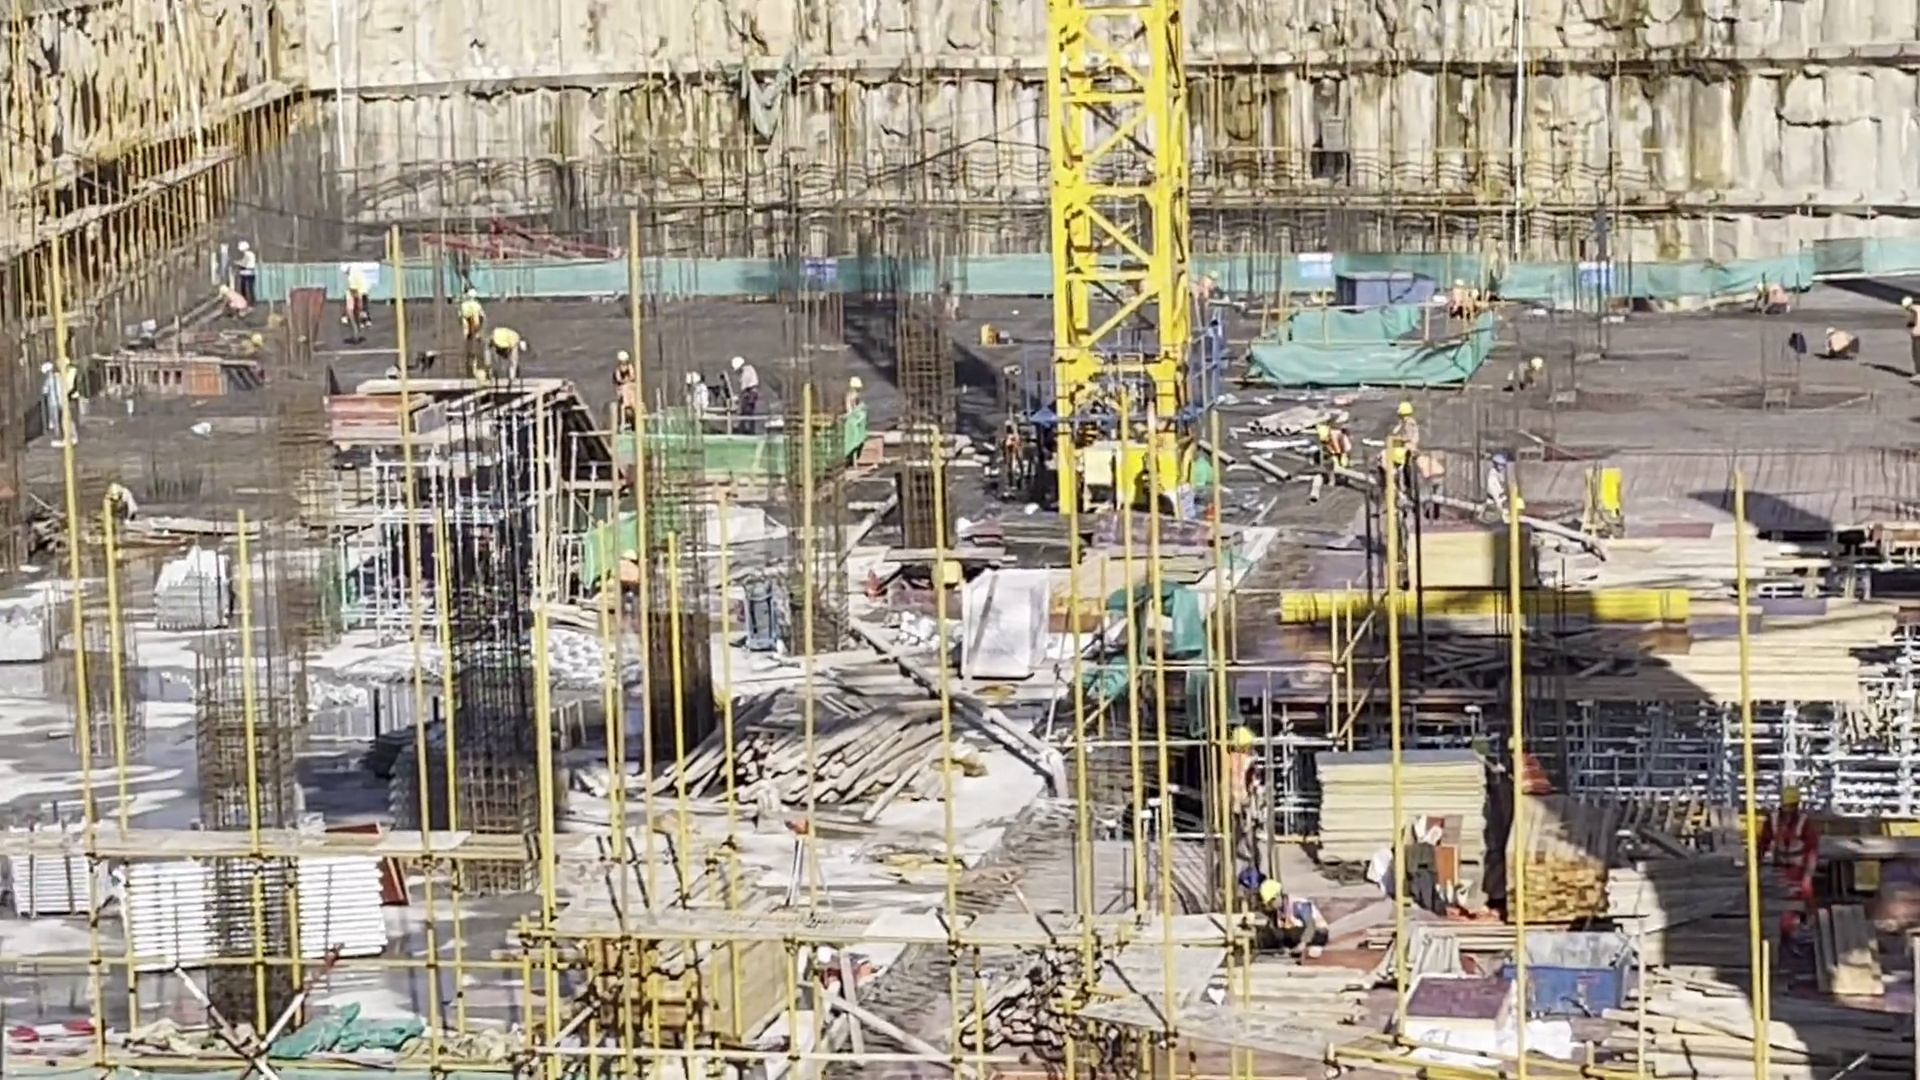board: (1318, 757, 1488, 864), (1403, 506, 1528, 584)
cutter: (878, 534, 1004, 594)
ebox: (1568, 457, 1631, 557), (1128, 422, 1201, 496)
helmet: (1231, 731, 1271, 763), (1777, 785, 1809, 805), (1506, 735, 1534, 755), (490, 326, 516, 346), (1531, 353, 1550, 378), (1494, 448, 1515, 470), (1453, 286, 1477, 303), (1003, 413, 1023, 432), (111, 481, 131, 499), (1261, 885, 1288, 897), (337, 259, 361, 272), (1902, 291, 1915, 311), (1320, 426, 1337, 441), (1211, 267, 1221, 289), (850, 377, 870, 389), (465, 281, 481, 295), (616, 345, 631, 360), (735, 355, 749, 369), (41, 355, 54, 370), (1397, 401, 1413, 413), (1825, 321, 1835, 333), (221, 240, 229, 256), (686, 373, 701, 381), (243, 245, 251, 259), (1759, 278, 1764, 289)
hopper: (1509, 904, 1631, 1027), (1336, 257, 1436, 311)
person: (1767, 785, 1820, 949), (1230, 724, 1272, 874), (1260, 875, 1331, 961), (40, 354, 85, 440), (1499, 739, 1555, 805), (486, 318, 540, 379), (731, 356, 771, 432), (838, 369, 872, 459), (332, 261, 376, 330), (609, 349, 651, 418), (986, 416, 1025, 491), (1396, 405, 1423, 496), (233, 241, 271, 302), (1819, 314, 1855, 374), (673, 363, 713, 416), (1484, 451, 1516, 514), (1451, 273, 1484, 328), (1316, 419, 1348, 475), (1902, 285, 1920, 378), (1756, 279, 1794, 324), (1194, 262, 1223, 319), (99, 491, 143, 527), (211, 286, 266, 314), (616, 545, 644, 599), (456, 283, 482, 338), (204, 237, 231, 288), (1505, 351, 1539, 388)
vest: (1779, 813, 1818, 889), (1229, 755, 1265, 826), (1272, 899, 1327, 939), (1510, 752, 1559, 795), (1487, 464, 1509, 512), (1831, 327, 1859, 360), (496, 329, 523, 361), (111, 490, 137, 523), (238, 251, 260, 289), (1381, 449, 1405, 475), (38, 379, 59, 408), (1330, 429, 1349, 461), (63, 370, 79, 409), (1900, 304, 1920, 335), (751, 367, 773, 393), (348, 294, 366, 323), (1198, 277, 1215, 307), (1764, 287, 1789, 307), (1003, 433, 1019, 461), (690, 389, 705, 418), (844, 385, 858, 415), (1458, 290, 1476, 315), (1400, 423, 1417, 447), (468, 303, 481, 334), (620, 366, 639, 387), (1512, 363, 1531, 384)
wood: (743, 682, 1038, 834), (683, 904, 824, 1041), (1663, 986, 1849, 1080), (1501, 811, 1633, 914)
